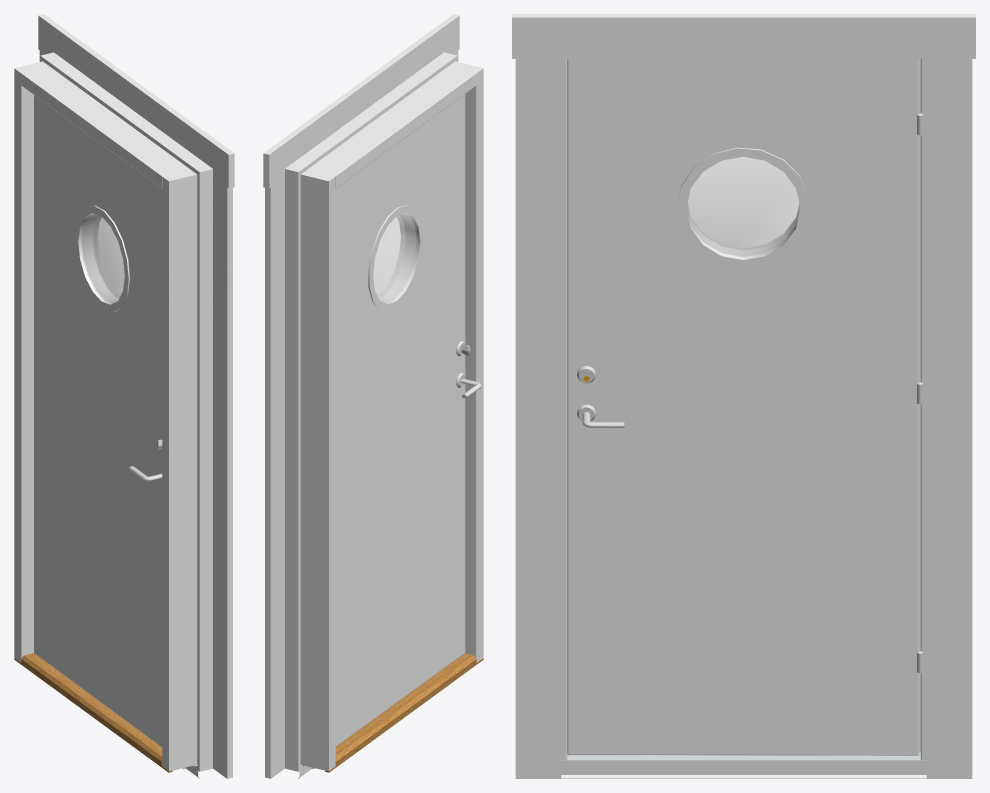
3 views of the same model, side by side, from view 1: azimuth 30°, elevation 25°; view 2: azimuth 150°, elevation 25°; view 3: azimuth 270°, elevation 25° (orthographic). The views are drawn at different scales.
Parts seen in each view (by area): view 1: window_material-2, window_material[2], accentcolor_cornerboard_material-4[1], window_material[1], accentcolor_cornerboard_material-2, accentcolor_cornerboard_material-3, window_material, polished oak 2d, clear glass_clonedChild, accentcolor_cornerboard_material, clear glass; view 2: window_material-2, window_material[1], accentcolor_cornerboard_material-4, window_material[2], accentcolor_cornerboard_material-2[1], accentcolor_cornerboard_material-3, window_material, polished oak 2d, clear glass_clonedChild, accentcolor_cornerboard_material, clear glass; view 3: window_material-2, accentcolor_cornerboard_material-4[1], accentcolor_cornerboard_material-4, accentcolor_cornerboard_material-3, clear glass[1]_clonedChild, clear glass[1], dripplate_material, window_material[1], window_material[2], matte aluminum.
Boxes of the visible parts, bbox=[...] form: window_material-2: bbox=[34, 95, 162, 747]; window_material[2]: bbox=[162, 171, 197, 770]; accentcolor_cornerboard_material-4[1]: bbox=[213, 177, 232, 778]; window_material[1]: bbox=[14, 61, 46, 662]; accentcolor_cornerboard_material-2: bbox=[195, 165, 212, 771]; accentcolor_cornerboard_material-3: bbox=[38, 14, 234, 188]; window_material: bbox=[21, 64, 192, 188]; polished oak 2d: bbox=[14, 653, 172, 772]; clear glass_clonedChild: bbox=[81, 214, 124, 302]; accentcolor_cornerboard_material: bbox=[45, 56, 207, 172]; clear glass: bbox=[83, 214, 123, 302]; window_material-2: bbox=[335, 94, 465, 746]; window_material[1]: bbox=[300, 171, 335, 770]; accentcolor_cornerboard_material-4: bbox=[265, 177, 284, 778]; window_material[2]: bbox=[451, 61, 483, 662]; accentcolor_cornerboard_material-2[1]: bbox=[285, 165, 302, 771]; accentcolor_cornerboard_material-3: bbox=[263, 14, 459, 188]; window_material: bbox=[305, 64, 476, 188]; polished oak 2d: bbox=[325, 653, 483, 772]; clear glass_clonedChild: bbox=[374, 214, 416, 302]; accentcolor_cornerboard_material: bbox=[290, 56, 452, 172]; clear glass: bbox=[374, 214, 415, 302]; window_material-2: bbox=[567, 59, 919, 755]; accentcolor_cornerboard_material-4[1]: bbox=[515, 59, 561, 778]; accentcolor_cornerboard_material-4: bbox=[926, 59, 972, 778]; accentcolor_cornerboard_material-3: bbox=[512, 14, 975, 58]; clear glass[1]_clonedChild: bbox=[687, 157, 799, 256]; clear glass[1]: bbox=[687, 157, 799, 256]; dripplate_material: bbox=[561, 760, 926, 778]; window_material[1]: bbox=[919, 59, 926, 759]; window_material[2]: bbox=[561, 59, 567, 759]; matte aluminum: bbox=[561, 752, 926, 760].
Size of the model in its own units: 0.2283 by 2.24 by 1.22.
24 materials, 11 textured.
